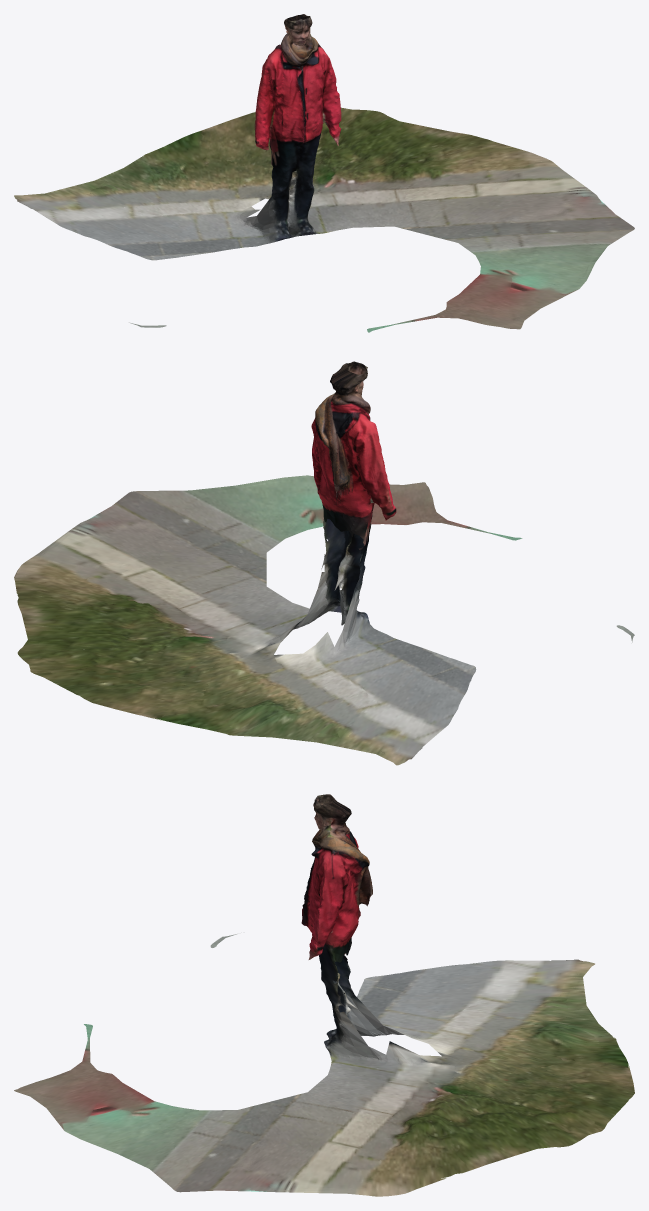
Rendered from scaniverse-2025-05-22-143707.fbx.
3 renders of one model, top to bottom at view 1: azimuth 30°, elevation 25°; view 2: azimuth 150°, elevation 25°; view 3: azimuth 270°, elevation 25°, orthographic. The views are drawn at different scales.
Parts seen in each view (by area): view 1: mesh; view 2: mesh; view 3: mesh.
Part boxes in pixels (x1,y1,x2,y2): mesh: [14, 14, 634, 332]; mesh: [14, 361, 634, 765]; mesh: [14, 794, 634, 1196].
Size of the model in its own units: 3.55 by 1.6 by 3.56.
1 material, 1 textured.
